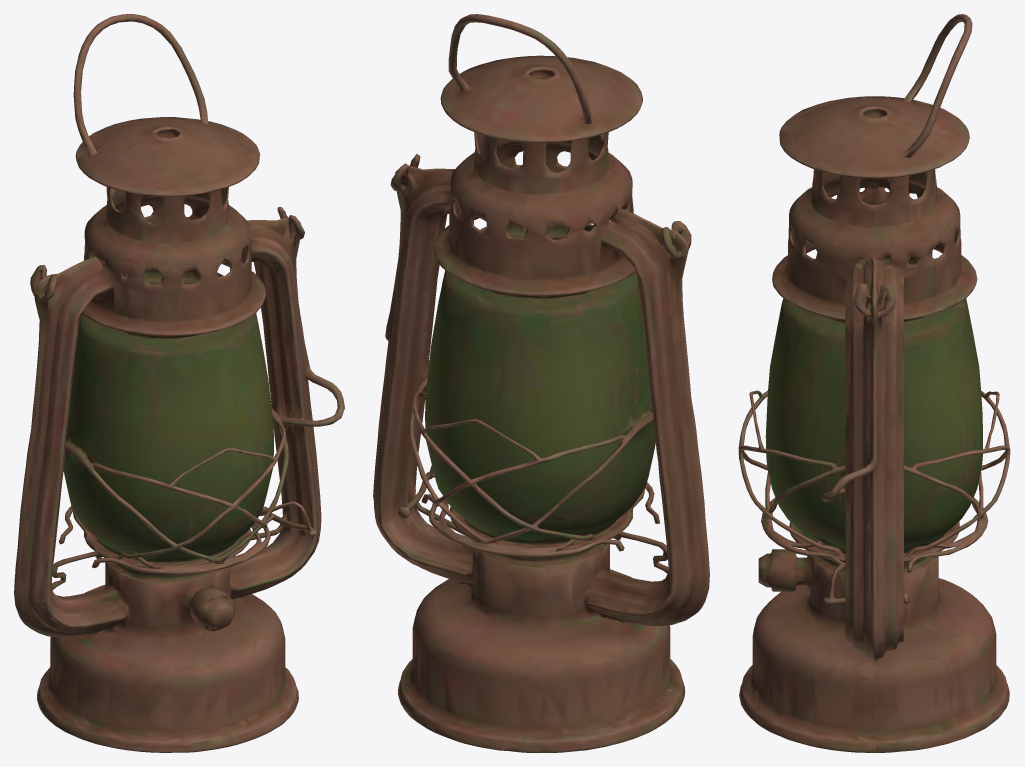
The model's file is r3d_pic_trellis2.glb.
3 renders of one model, left to right at view 1: azimuth 30°, elevation 25°; view 2: azimuth 150°, elevation 25°; view 3: azimuth 270°, elevation 25°, orthographic. The views are drawn at different scales.
Visible parts, largest first — view 1: ship_lantern; view 2: ship_lantern; view 3: ship_lantern.
Boxes of the visible parts, x1=… form: ship_lantern: x1=14, y1=14, x2=344, y2=752; ship_lantern: x1=373, y1=14, x2=709, y2=752; ship_lantern: x1=738, y1=14, x2=1010, y2=752.
Size of what is drawn, in the model's own units: 0.2496 by 0.5001 by 0.1835.
Materials: 1 (1 with a texture image).
